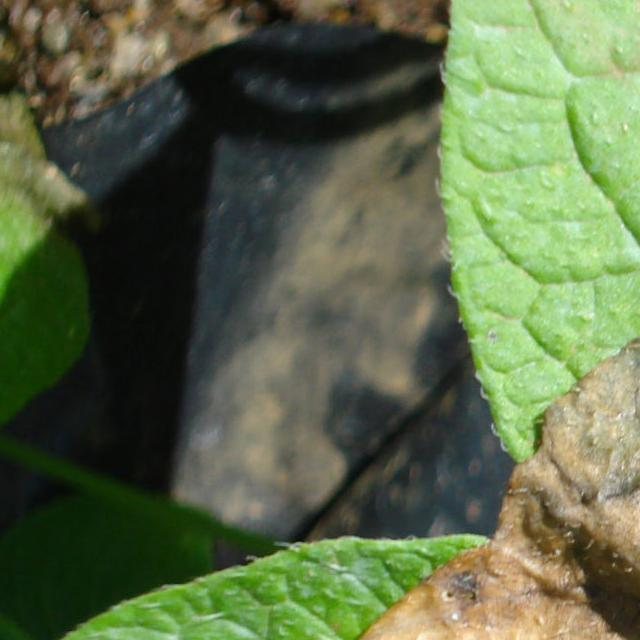Tomato leaf late blight: (209, 100, 640, 640)
